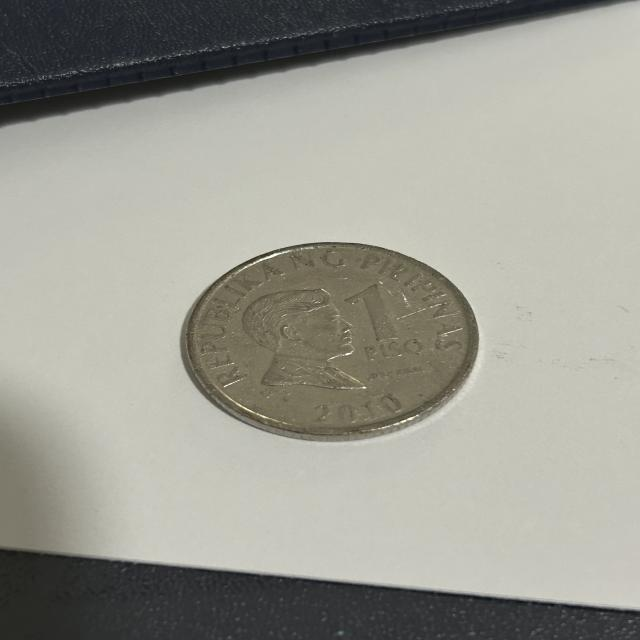1_Old_Front: (341, 283, 427, 365)
